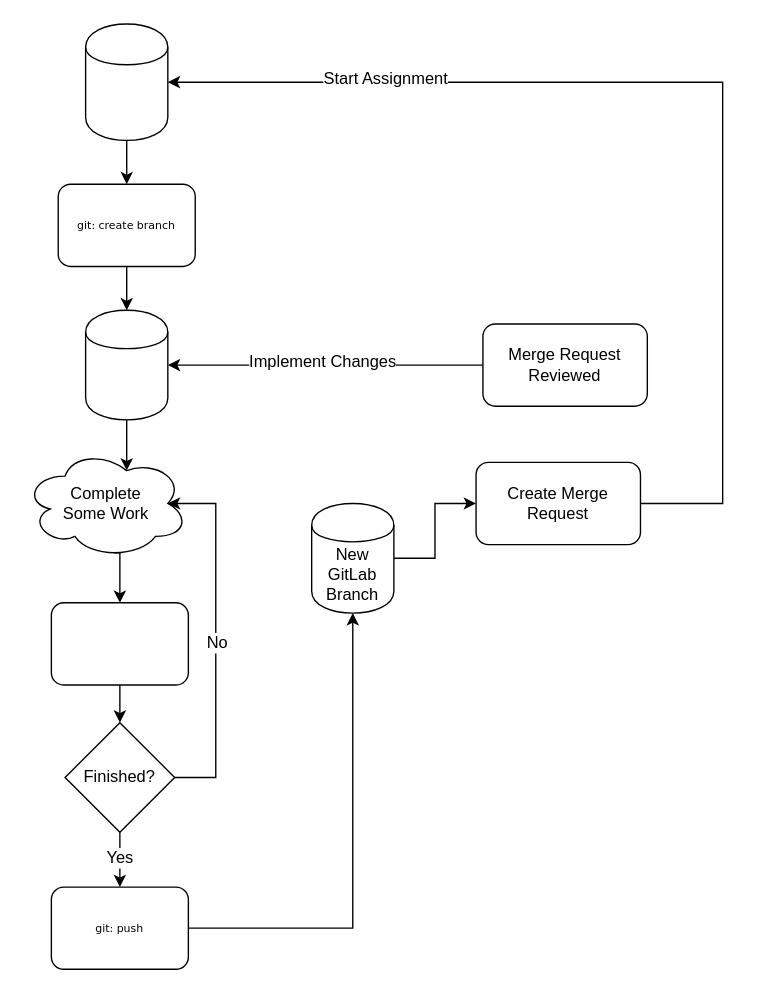
Some shapes in this 758 by 993 pixel diagram are drawn without their labels. The centre of each missing label's shape, as x and y in pixels:
Current Branch: the point at 126,81
git: commit: the point at 119,643
New Branch: the point at 126,364
